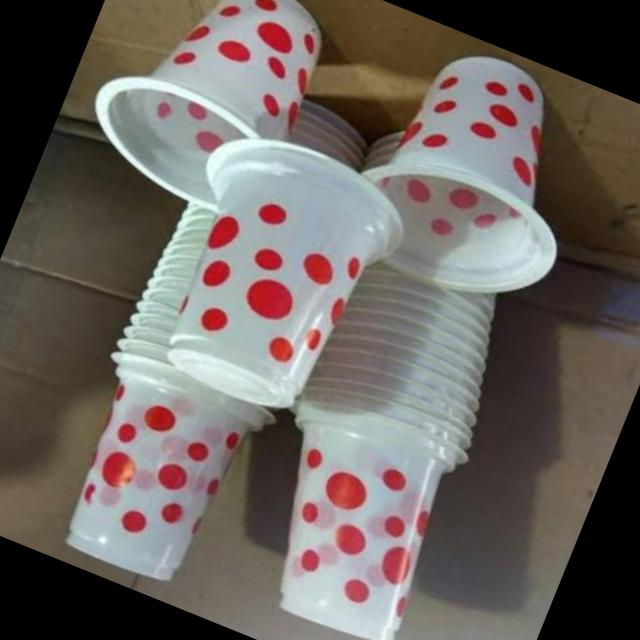GelasPlastik: (218, 237, 532, 640), (119, 110, 398, 428), (336, 32, 616, 326), (73, 0, 348, 234), (36, 340, 254, 588)
